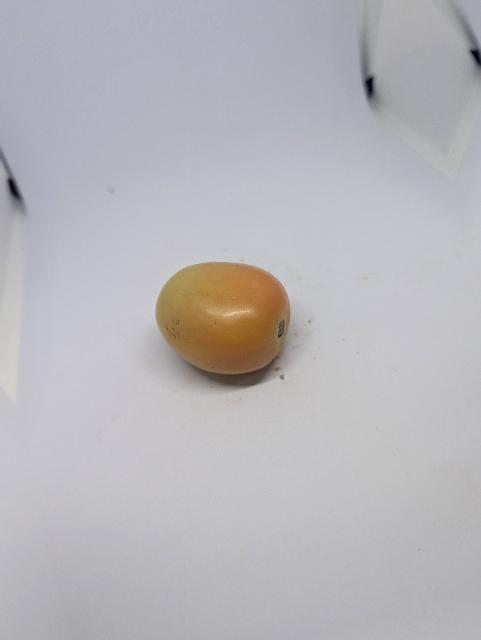turning: (149, 258, 305, 384)
